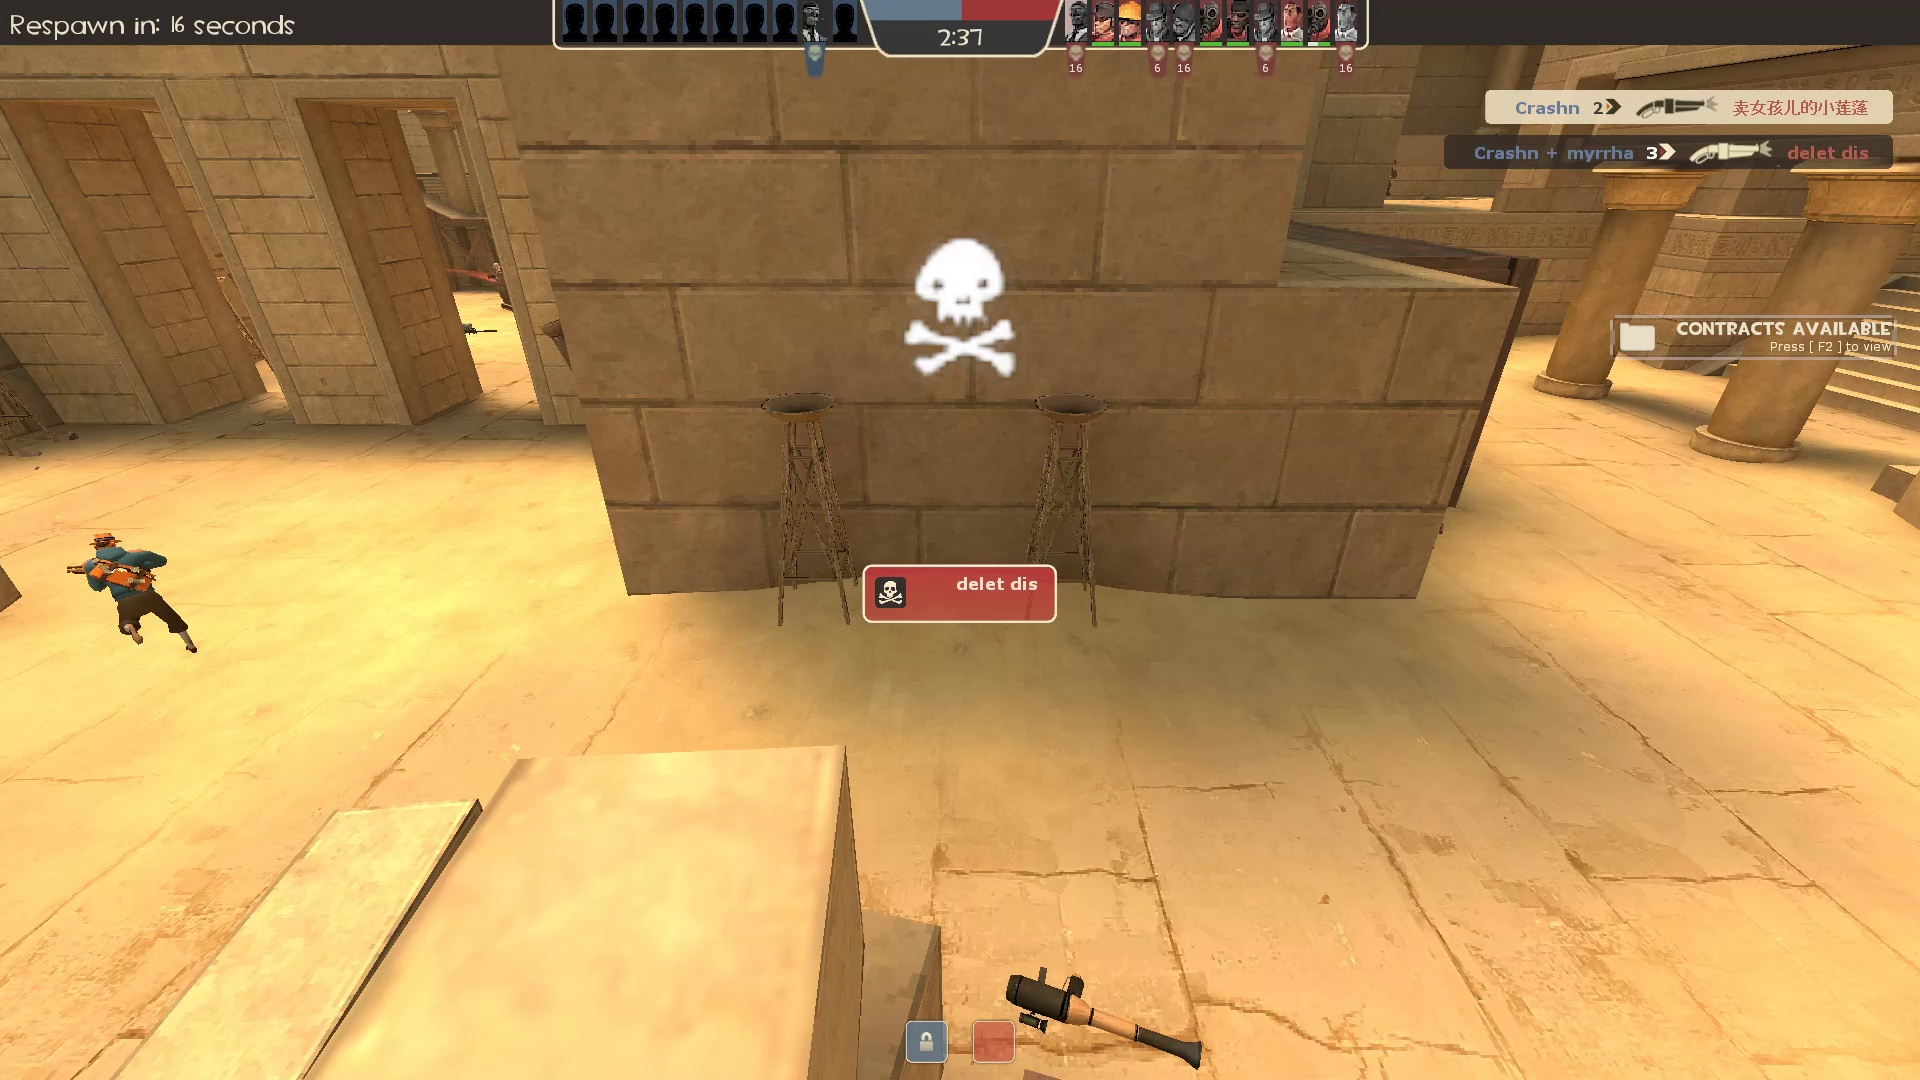blu_scout: (61, 527, 208, 658)
